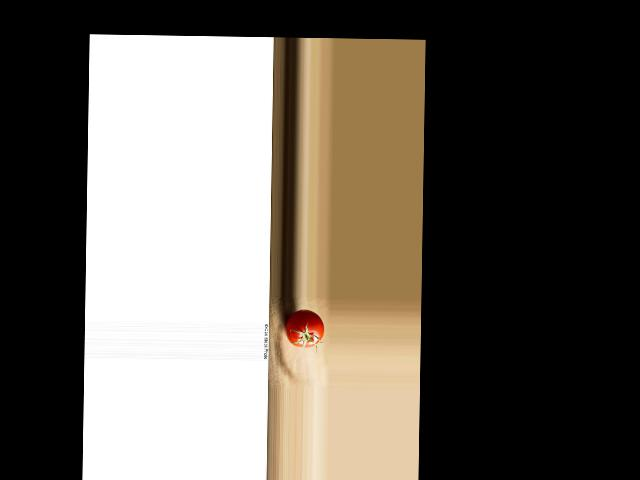tomato: (285, 309, 323, 348)
